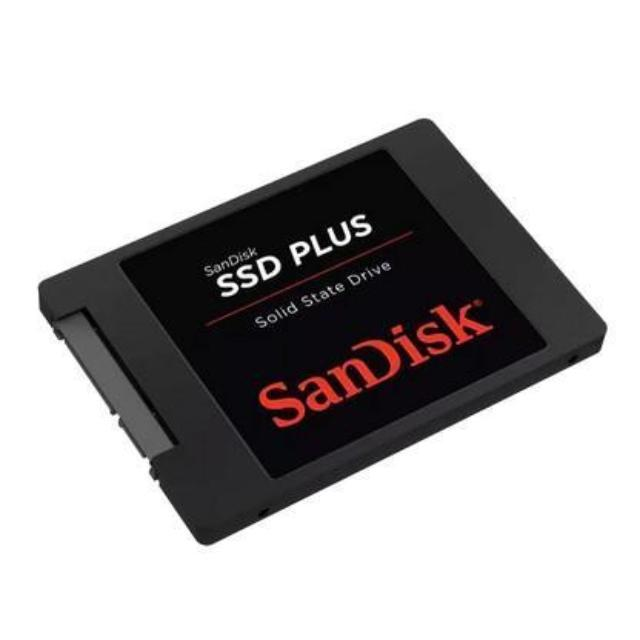DISK: (28, 108, 617, 554)
